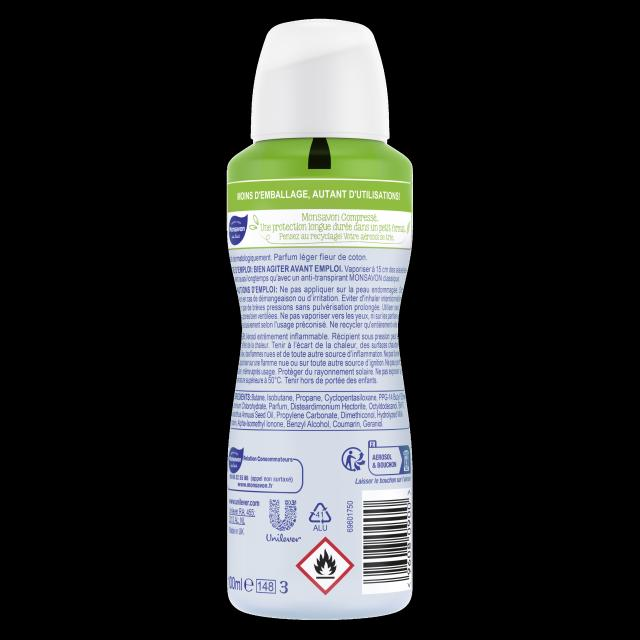GHS_Symbol_FLAME: (297, 536, 354, 595)
